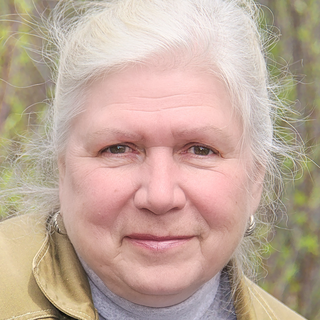eye: (87, 134, 145, 169), (172, 132, 227, 167)
